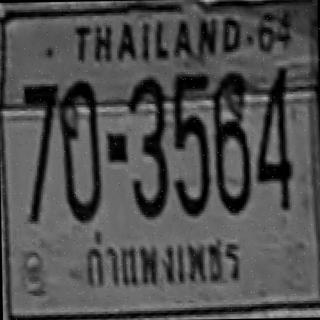N00: (58, 78, 100, 221)
N03: (126, 74, 168, 217)
N04: (254, 66, 291, 209)
N05: (170, 72, 209, 182), (170, 71, 208, 168), (170, 72, 208, 152)
N07: (22, 82, 59, 218), (22, 84, 59, 173)
N08: (211, 71, 250, 211)
P16: (78, 223, 250, 293)
